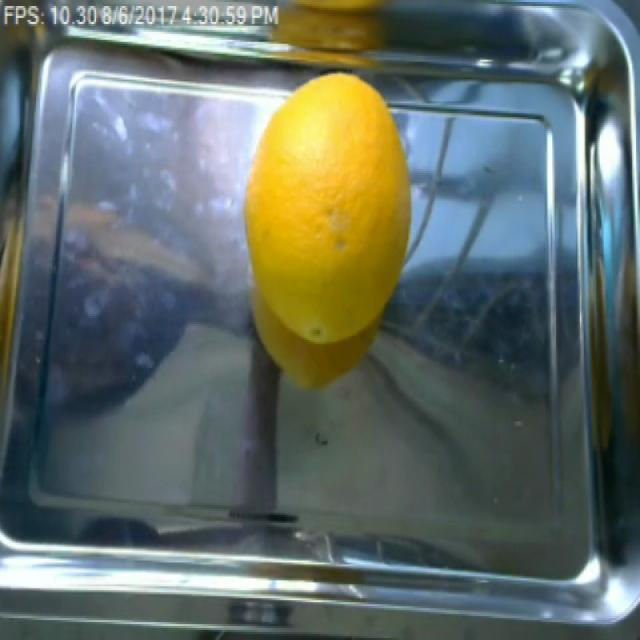Fruit: (230, 61, 413, 378)
